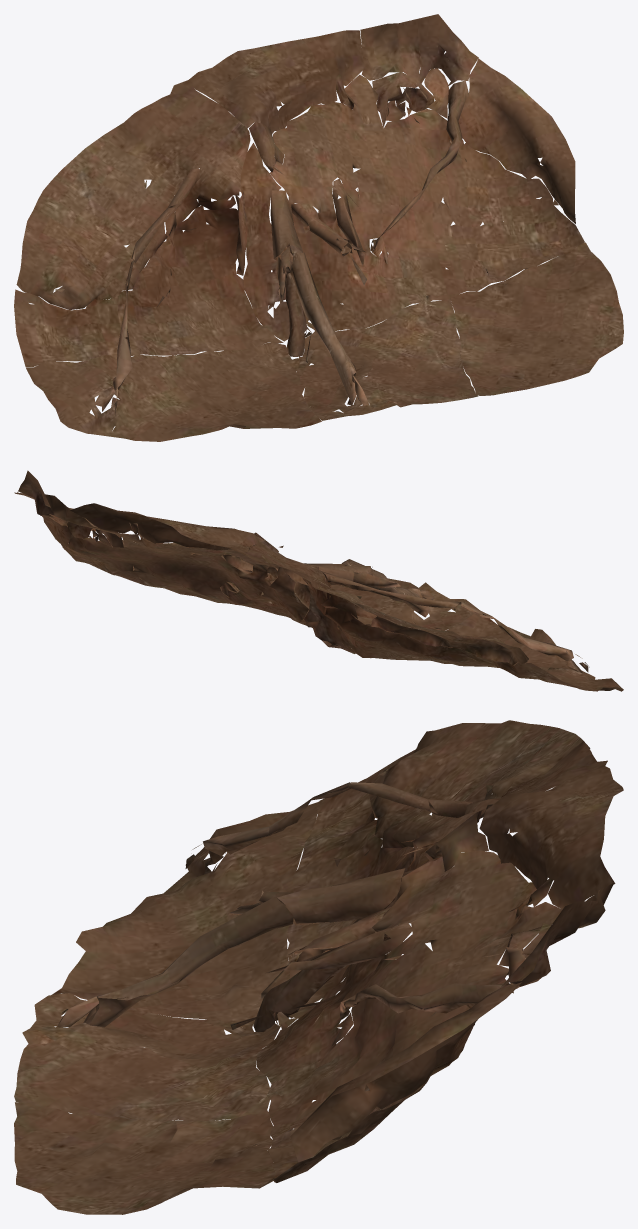
Rendered from root_cluster_01.glb.
3 views of the same model, one above another, from view 1: azimuth 30°, elevation 25°; view 2: azimuth 150°, elevation 25°; view 3: azimuth 270°, elevation 25° (orthographic). The views are drawn at different scales.
Parts seen in each view (by area): view 1: root_cluster_01; view 2: root_cluster_01; view 3: root_cluster_01.
Boxes of the visible parts, x1,y1,x2,y2 form: root_cluster_01: [14, 14, 623, 441]; root_cluster_01: [14, 470, 623, 691]; root_cluster_01: [14, 720, 623, 1214].
Bounding box in the file's own units: 4.12 × 1.5 × 2.68.
1 material, 1 textured.
